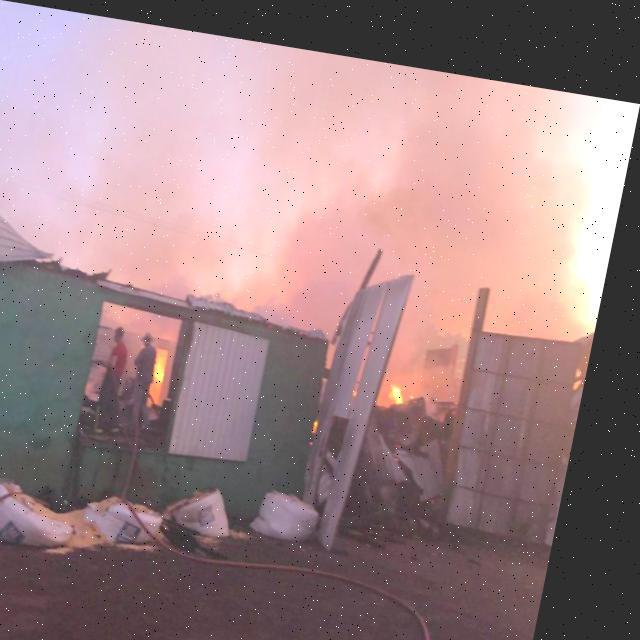Fire: (164, 349, 183, 374), (404, 367, 421, 388)
